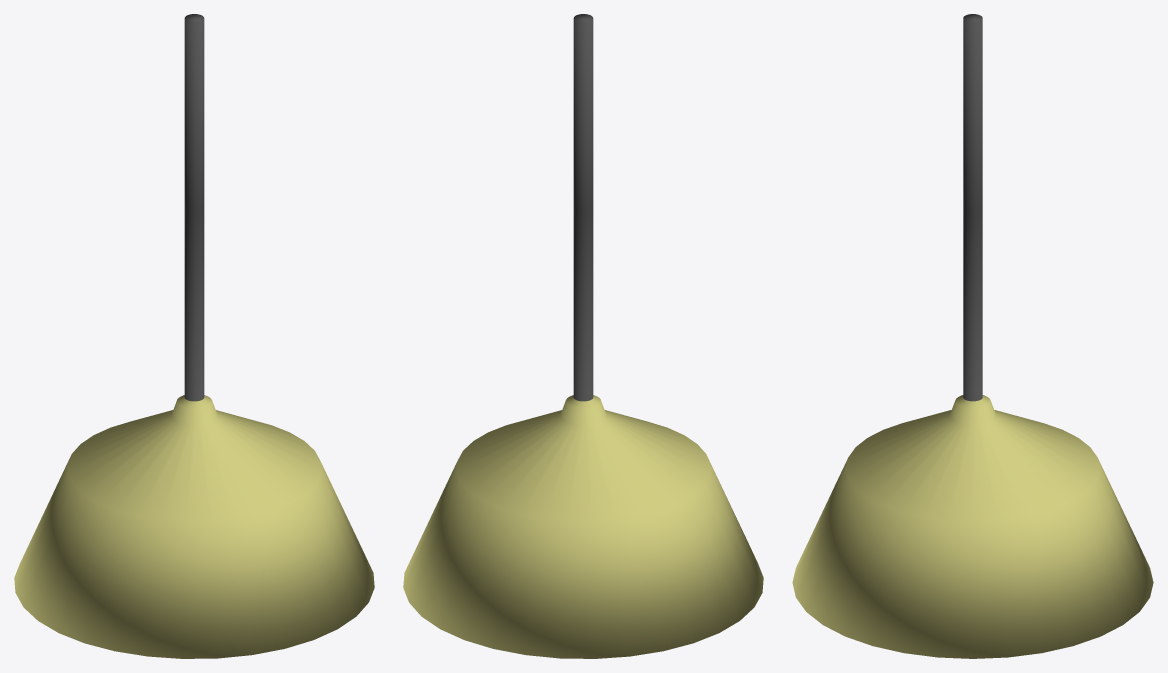
The model's file is Lampe.fbx.
3 renders of one model, left to right at view 1: azimuth 30°, elevation 25°; view 2: azimuth 150°, elevation 25°; view 3: azimuth 270°, elevation 25°, orthographic.
Visible parts, largest first — view 1: Lampe; view 2: Lampe; view 3: Lampe.
Boxes of the visible parts, bbox=[...] form: Lampe: bbox=[14, 14, 374, 658]; Lampe: bbox=[403, 14, 763, 658]; Lampe: bbox=[792, 14, 1153, 658].
Size of the model in its own units: 161 by 286 by 161.
